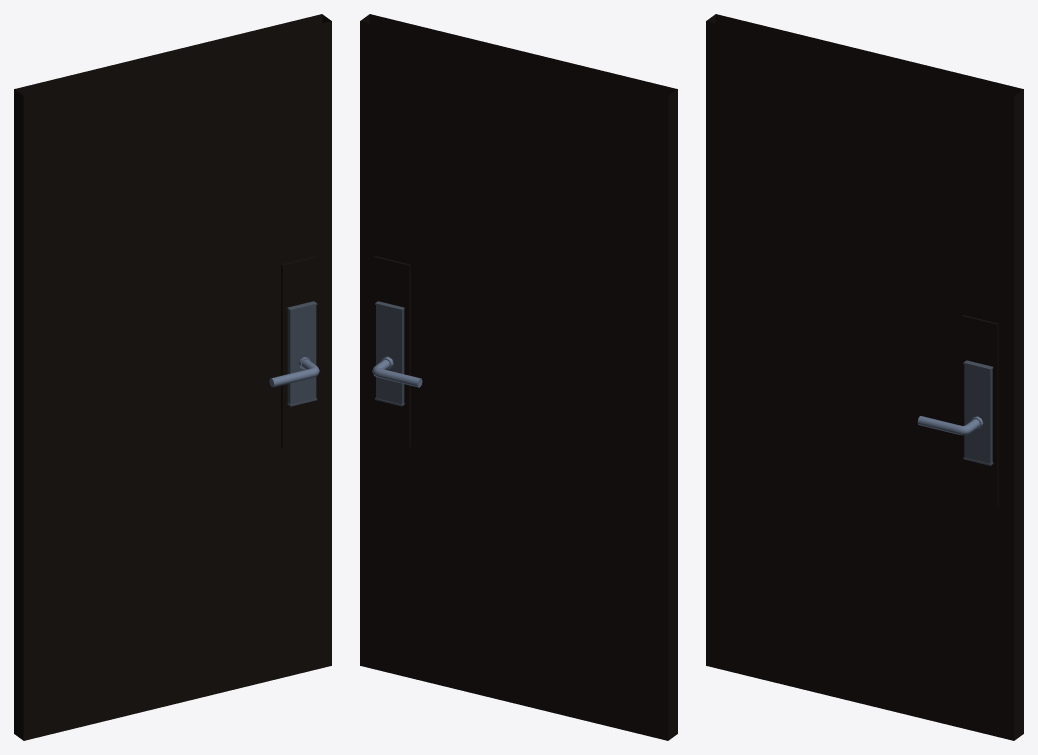
Rendered from Puerta.fbx.
3 views of the same model, side by side, from view 1: azimuth 30°, elevation 25°; view 2: azimuth 150°, elevation 25°; view 3: azimuth 330°, elevation 25° (orthographic).
Visible parts, largest first — view 1: Puerta, Cerradura, Manija; view 2: Puerta, Cerradura, Manija; view 3: Puerta, Cerradura, Manija.
Boxes of the visible parts, <box> form: Puerta: <box>14,14,331,740</box>; Cerradura: <box>287,301,317,406</box>; Manija: <box>269,357,319,387</box>; Puerta: <box>360,14,677,740</box>; Cerradura: <box>375,301,404,406</box>; Manija: <box>372,356,422,387</box>; Puerta: <box>706,14,1023,740</box>; Cerradura: <box>963,360,993,465</box>; Manija: <box>917,416,983,435</box>.
Bounding box in the file's own units: 100 × 200 × 27.48.
